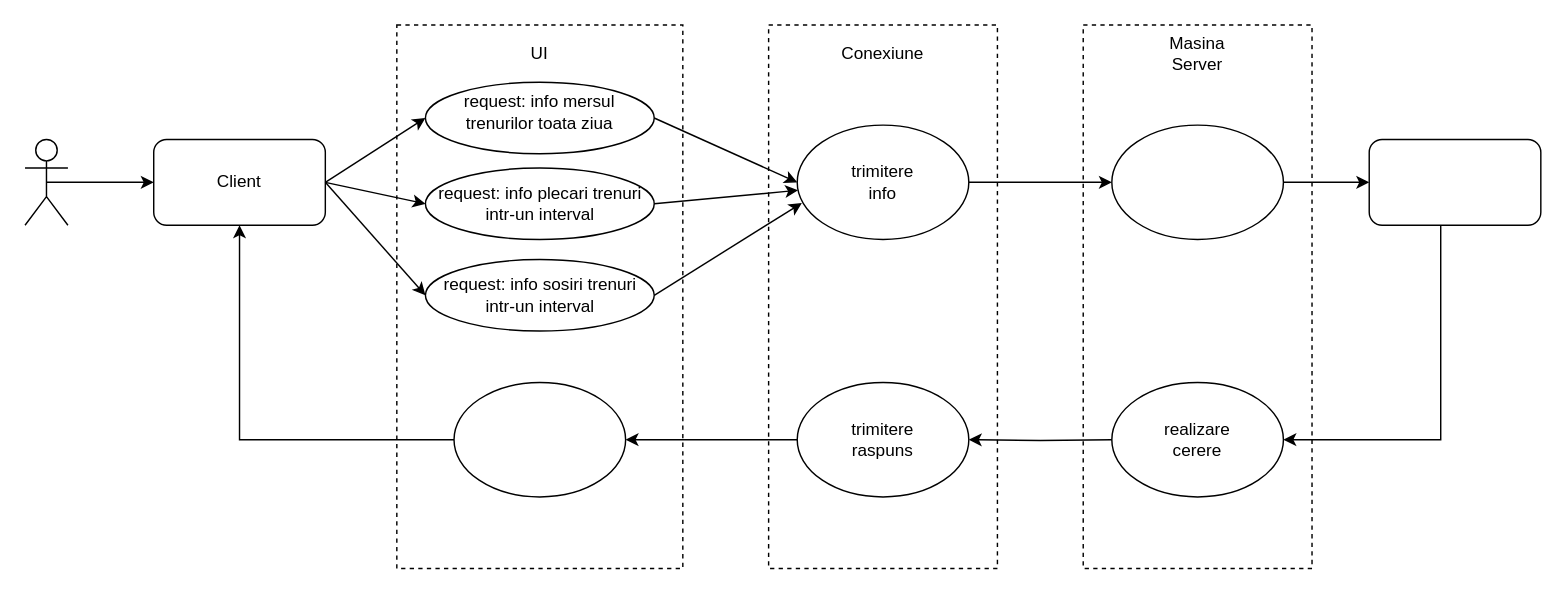
Image size: 1566x593. Some labels were removed from this diagram. Here are the shapes that lost their labels. From the top down, the centre of each, then its label:
At pixel 46 181: "User".
At pixel 1196 182: "primire cerere".
At pixel 1454 181: "Server".
At pixel 539 439: "afisare raspuns".
